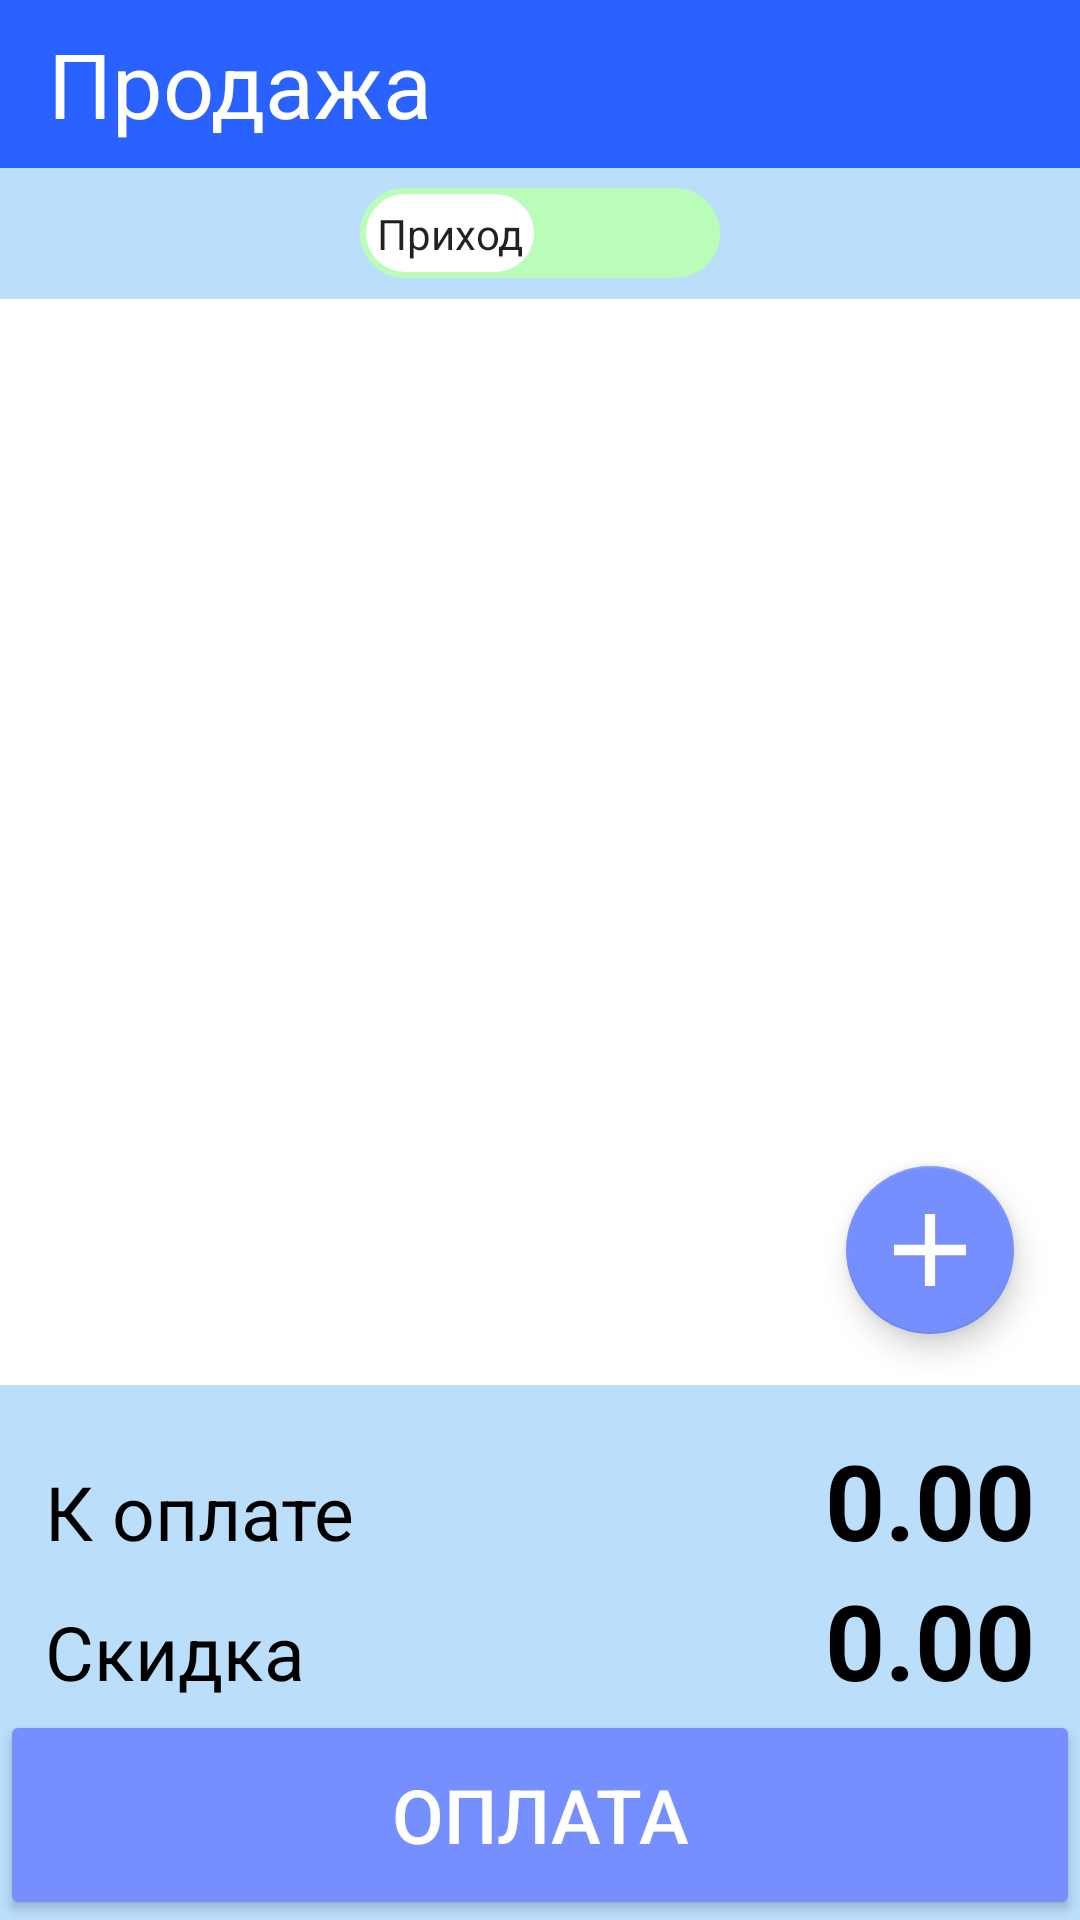

Where to tap for icons on this 1080×1920 app screen, as [x,y]:
add: [930,1250]
